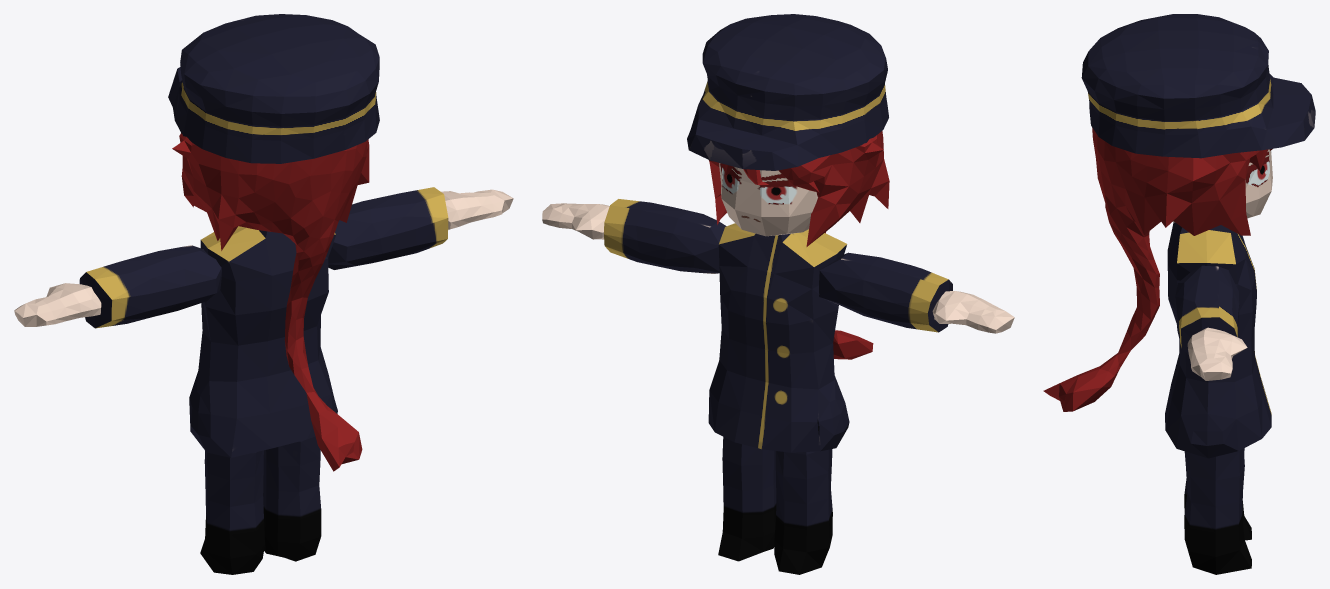
Rendered from 1.1Matarael_Painterd.fbx.
3 views of the same model, side by side, from view 1: azimuth 30°, elevation 25°; view 2: azimuth 150°, elevation 25°; view 3: azimuth 270°, elevation 25° (orthographic). The views are drawn at different scales.
Visible parts, largest first — view 1: BodyAndClothes, Hair; view 2: BodyAndClothes, Hair; view 3: BodyAndClothes, Hair.
Part boxes in pixels (left/top/right/bottom): BodyAndClothes: left=14, top=14, right=513, bottom=574; Hair: left=172, top=133, right=369, bottom=471; BodyAndClothes: left=542, top=14, right=1014, bottom=574; Hair: left=709, top=131, right=889, bottom=359; BodyAndClothes: left=1081, top=14, right=1315, bottom=574; Hair: left=1043, top=127, right=1272, bottom=411.
Size of the model in its own units: 542 by 566 by 272.
